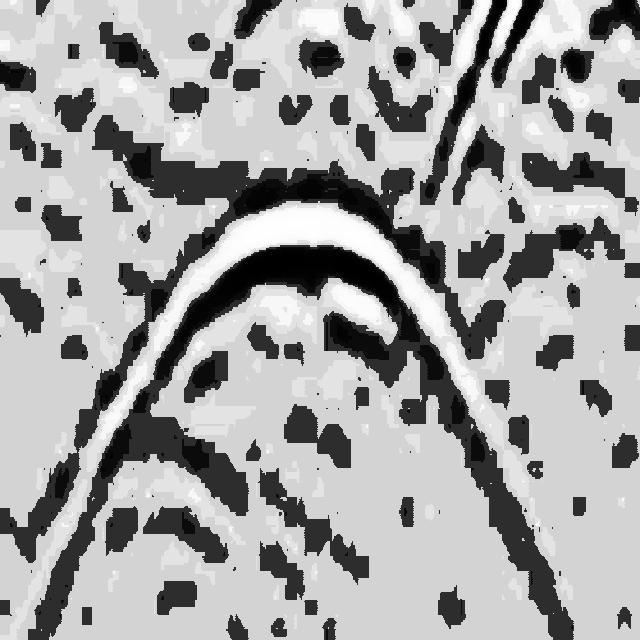hyperbola: (127, 178, 480, 448)
